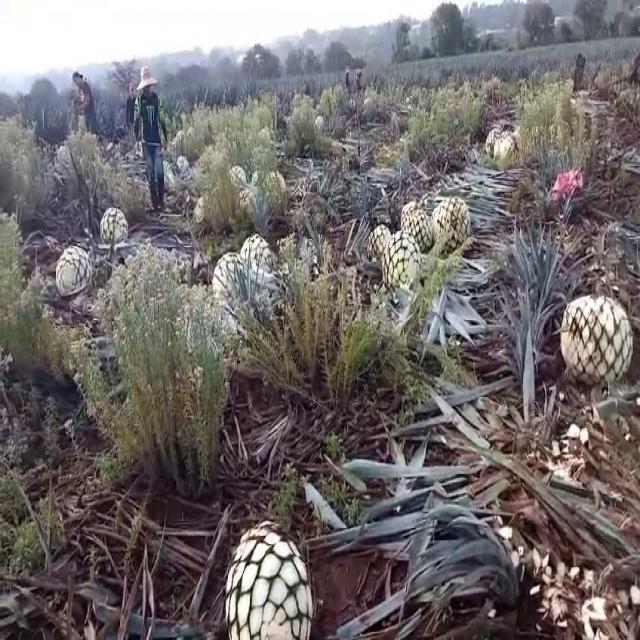agave: (218, 513, 310, 640), (558, 286, 634, 386), (211, 250, 254, 322), (381, 227, 424, 295), (431, 194, 472, 253), (238, 230, 274, 288), (56, 244, 94, 294), (403, 209, 434, 253), (101, 206, 130, 247), (365, 218, 391, 259), (398, 197, 417, 232), (229, 162, 247, 188), (176, 153, 193, 179), (493, 129, 508, 153), (484, 129, 499, 153), (502, 135, 514, 162), (314, 111, 326, 132)
